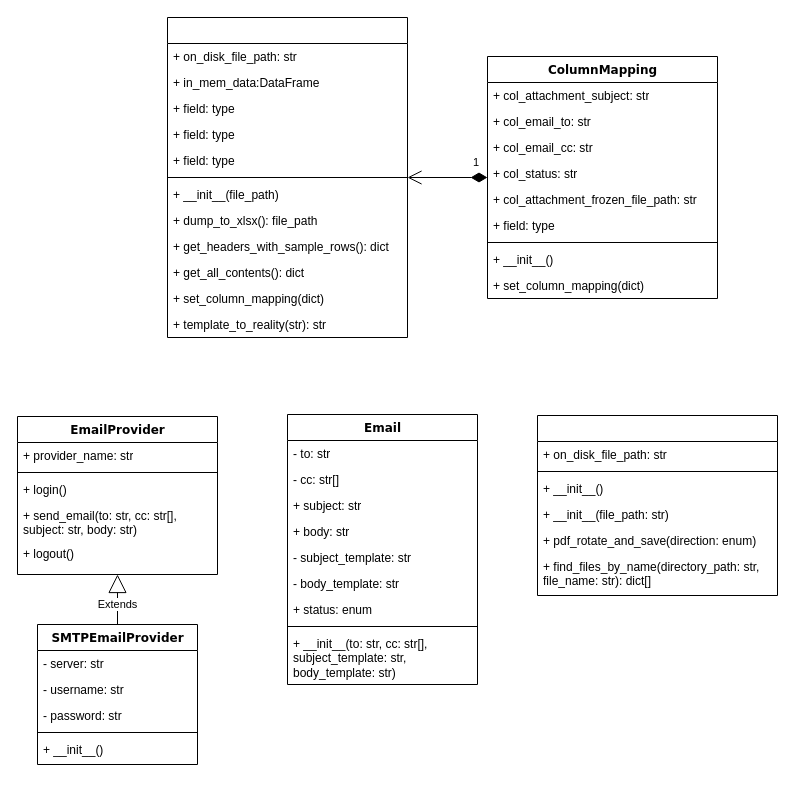
Image size: 795x785. Some labels were removed from this diagram. The box of each missing label's shape, as (x1, y1, x2, y2) in pixels:
FileUtils: (536, 414, 778, 596)
Sheet: (166, 16, 408, 338)
